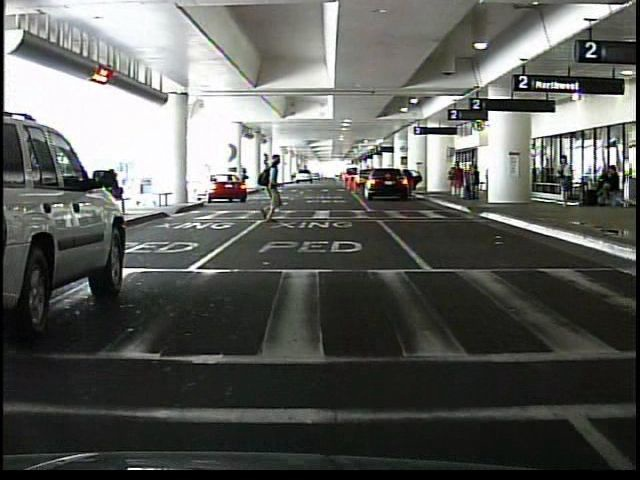person: (248, 148, 288, 223), (446, 159, 466, 199), (559, 157, 573, 205), (468, 165, 481, 200)
